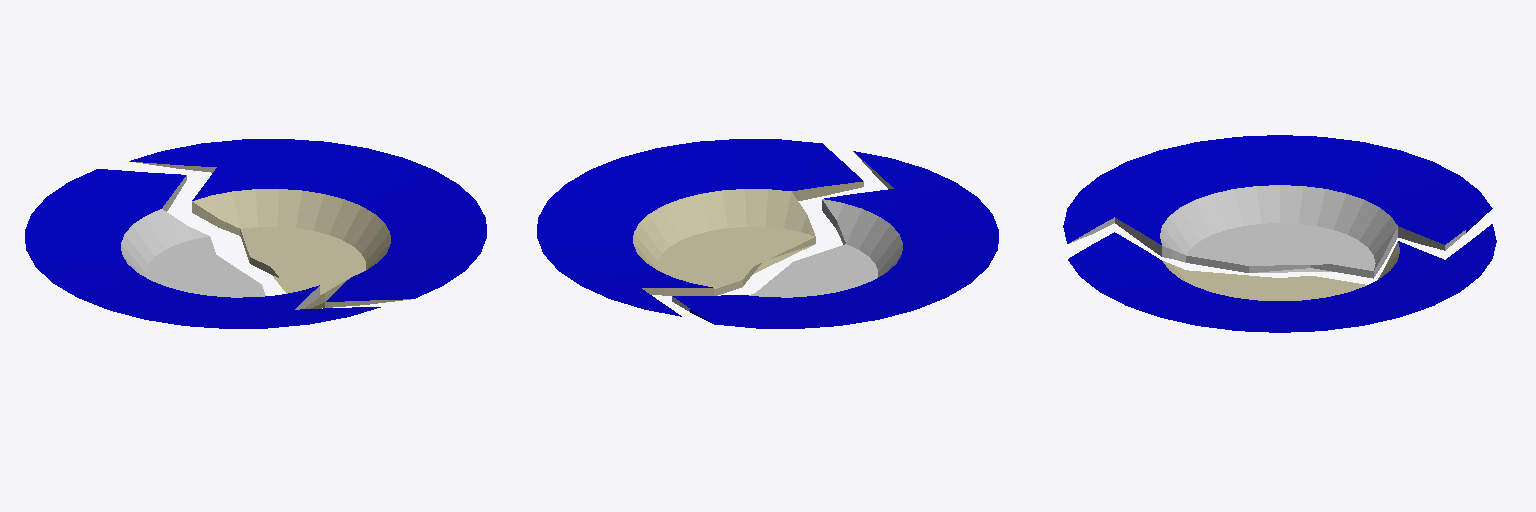
Rendered from anorganik3.obj.
3 views of the same model, side by side, from view 1: azimuth 30°, elevation 25°; view 2: azimuth 150°, elevation 25°; view 3: azimuth 270°, elevation 25° (orthographic).
Parts seen in each view (by area): view 1: Cylinder.001; view 2: Cylinder.001; view 3: Cylinder.001.
Boxes of the visible parts, <box> form: Cylinder.001: <box>25,139,486,328</box>; Cylinder.001: <box>537,139,998,328</box>; Cylinder.001: <box>1063,135,1496,332</box>.
Size of the model in its own units: 0.9875 by 0.1026 by 0.9141.